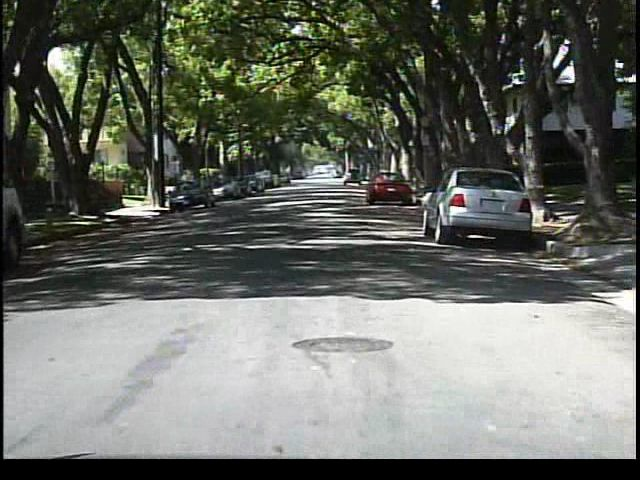person: (177, 170, 196, 202)
